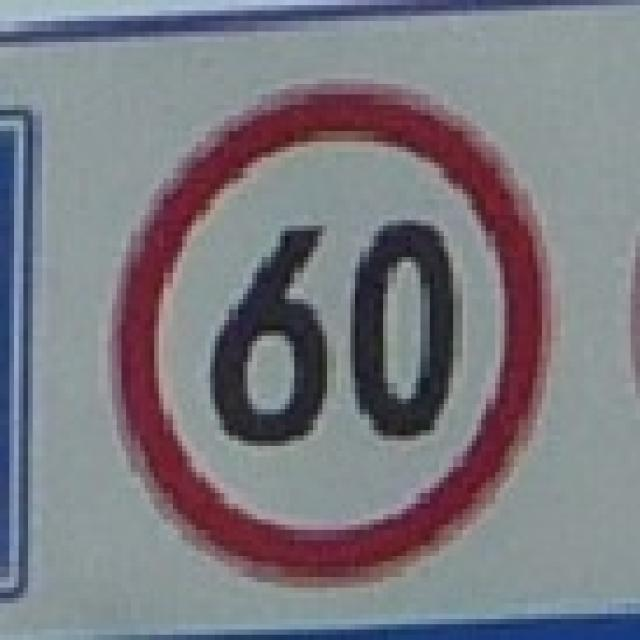Speed Limit -60-: (204, 209, 462, 455)
